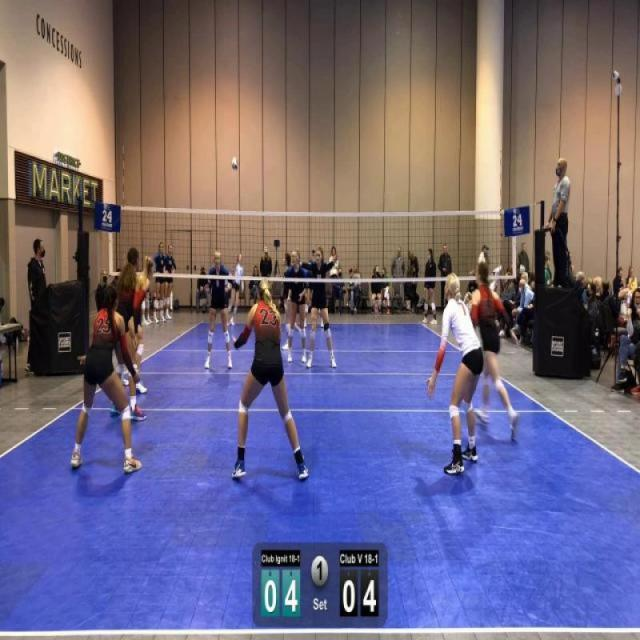volleyball: (230, 156, 240, 172)
